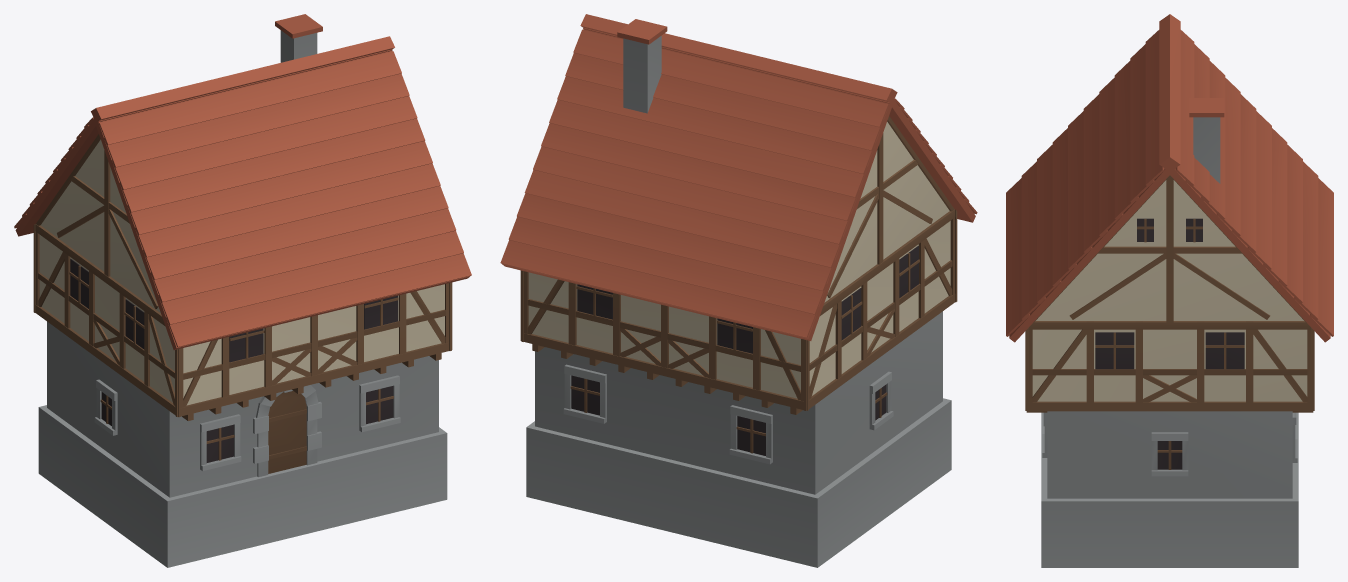
The model's file is house_0.glb.
3 views of the same model, side by side, from view 1: azimuth 30°, elevation 25°; view 2: azimuth 150°, elevation 25°; view 3: azimuth 270°, elevation 25° (orthographic). The views are drawn at different scales.
Parts seen in each view (by area): view 1: house_0; view 2: house_0; view 3: house_0.
Boxes of the visible parts, x1,y1,x2,y2 form: house_0: (14, 14, 471, 567); house_0: (500, 14, 977, 567); house_0: (1006, 14, 1333, 567).
Bounding box in the file's own units: 8.3 × 11.63 × 8.03.
